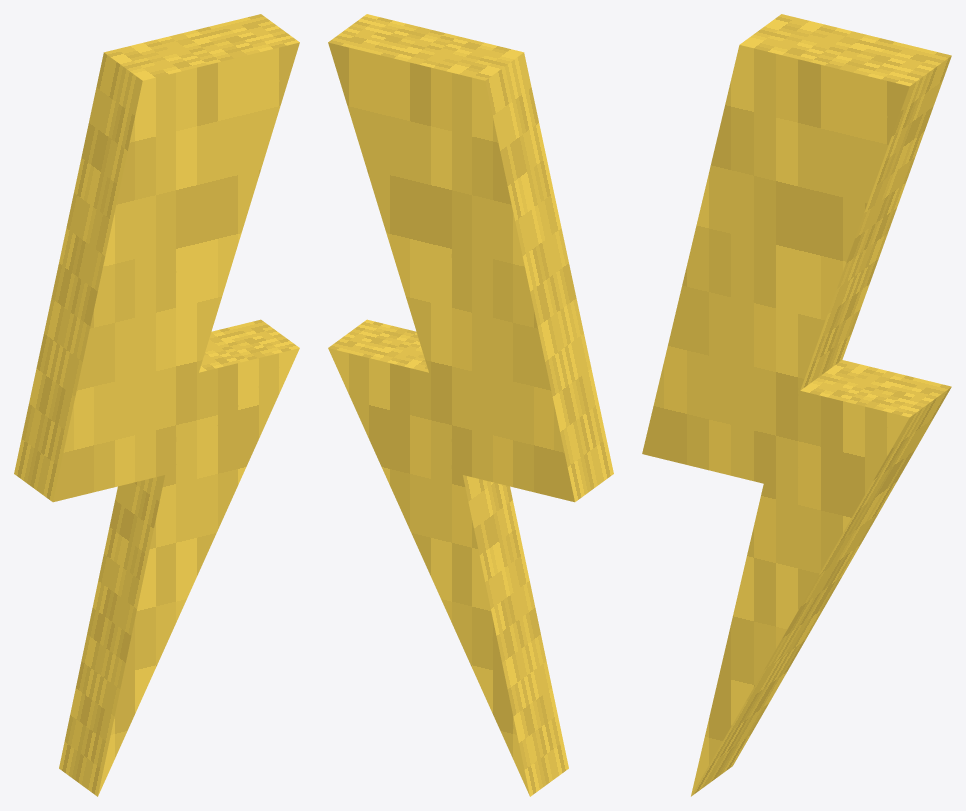
Rendered from powerup_speed.glb.
3 renders of one model, left to right at view 1: azimuth 30°, elevation 25°; view 2: azimuth 150°, elevation 25°; view 3: azimuth 330°, elevation 25°, orthographic. The views are drawn at different scales.
Visible parts, largest first — view 1: powerup_speed; view 2: powerup_speed; view 3: powerup_speed.
Part boxes in pixels (x1,y1,x2,y2): powerup_speed: (14, 14, 299, 796); powerup_speed: (328, 14, 613, 796); powerup_speed: (642, 14, 951, 796).
Bounding box in the file's own units: 0.22 × 0.6 × 0.06.
Materials: 1 (1 with a texture image).
